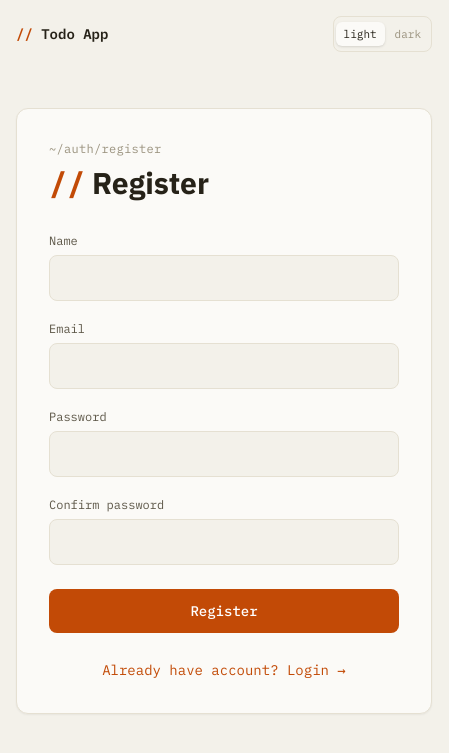
Scenario: Pages tests › Sign Up Page › should validate password confirmation
Type "John Doe" into the field labelled "Name" at (224, 278), box left=49, top=255, right=399, bottom=301
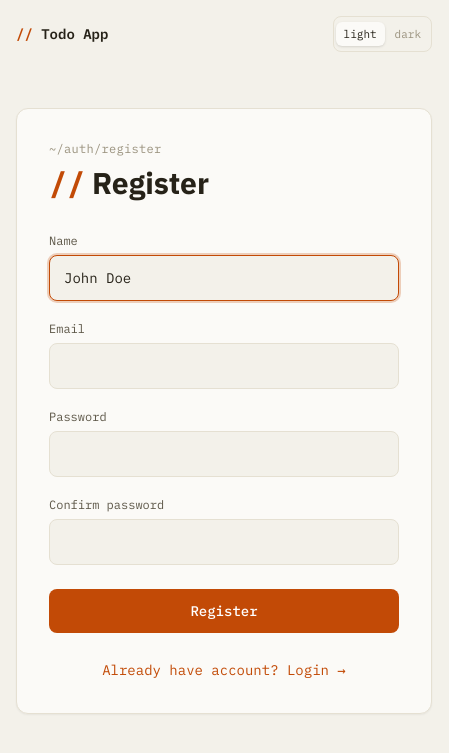
Type "john@example.com" into the field labelled "Email" at (224, 366), box left=49, top=343, right=399, bottom=389
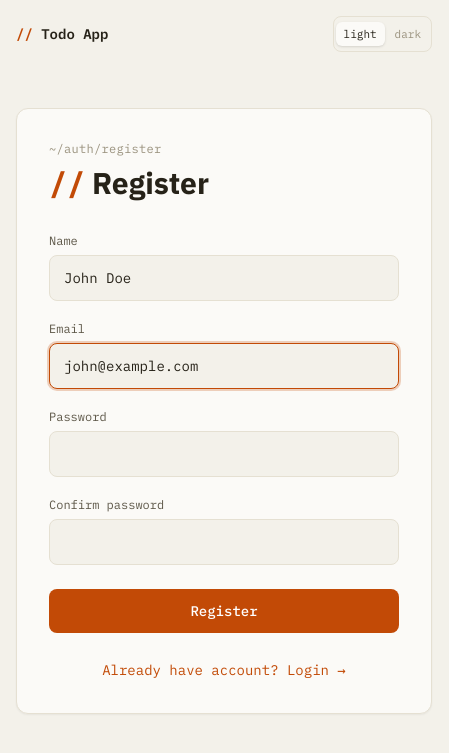
Type "123456" into the password field labelled "Password" at (224, 454), box left=49, top=431, right=399, bottom=477
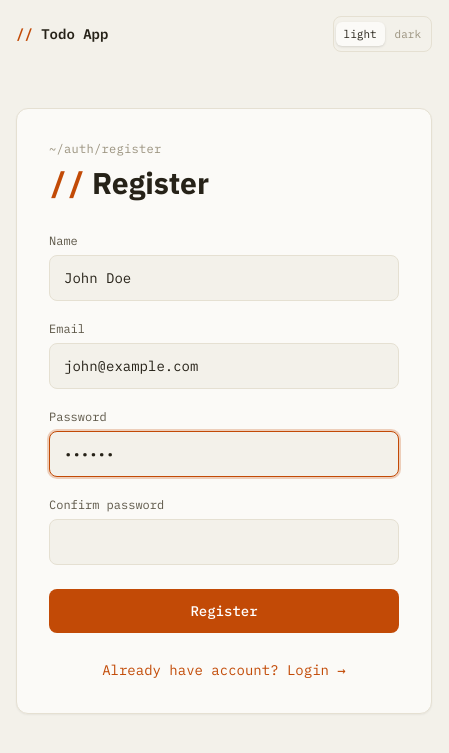
Type "654321" into the password field labelled "Confirm password" at (224, 542), box left=49, top=519, right=399, bottom=565
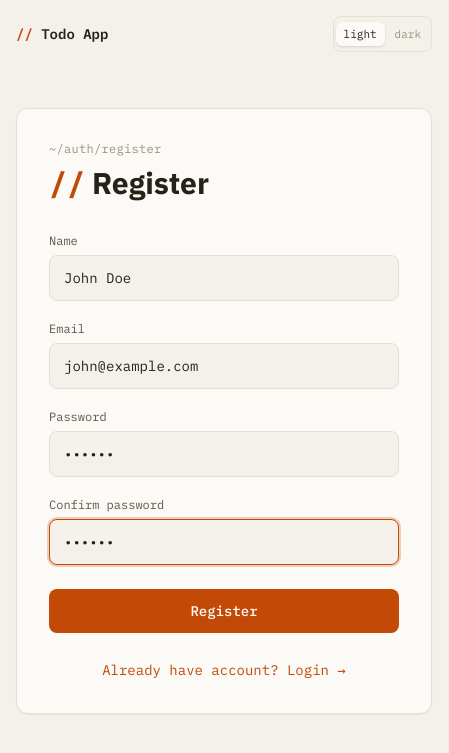
Click the button "Register" at (224, 611), box left=49, top=589, right=399, bottom=633
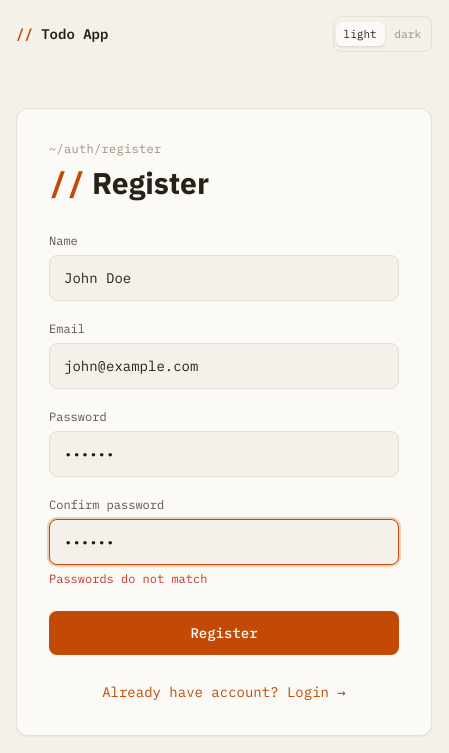
Expected: the text "Passwords do not match" is shown, left=49, top=571, right=207, bottom=586
